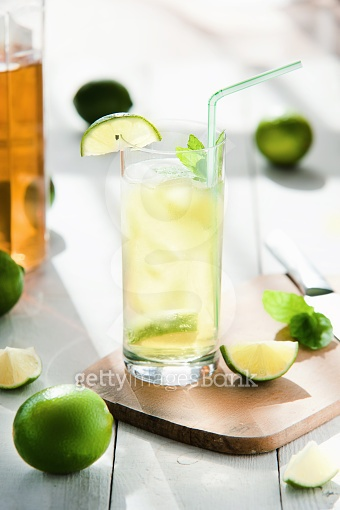glass of water: (104, 110, 244, 395), (1, 1, 57, 268)
